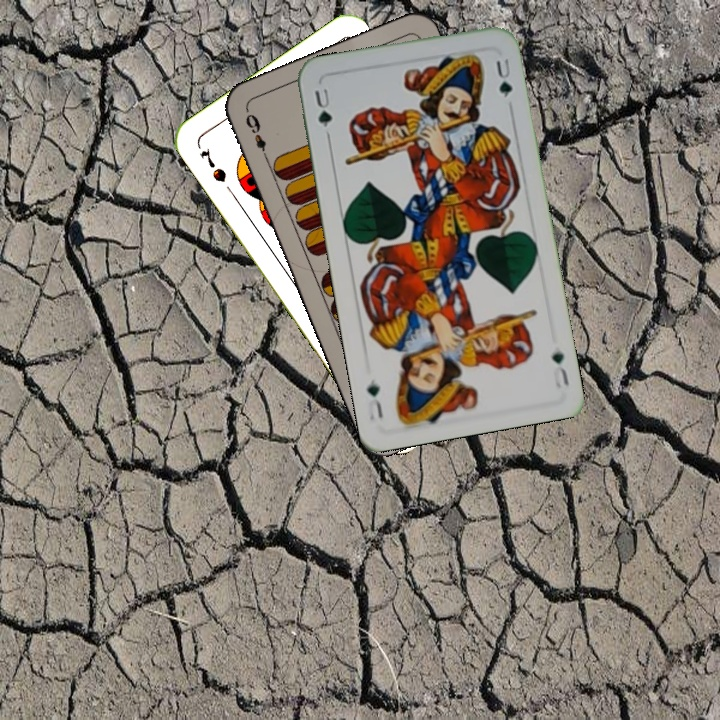E9: (241, 109, 271, 164)
GU: (310, 84, 335, 130), (547, 347, 572, 391)
S7: (196, 144, 229, 185)
